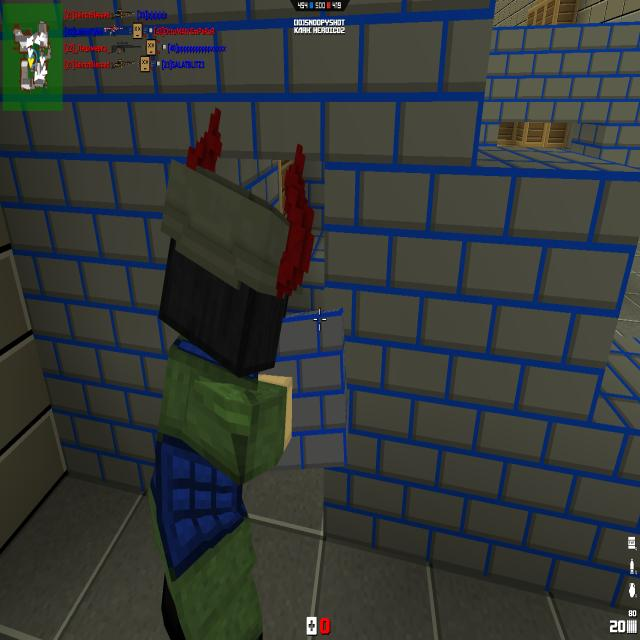player: (148, 108, 312, 638)
